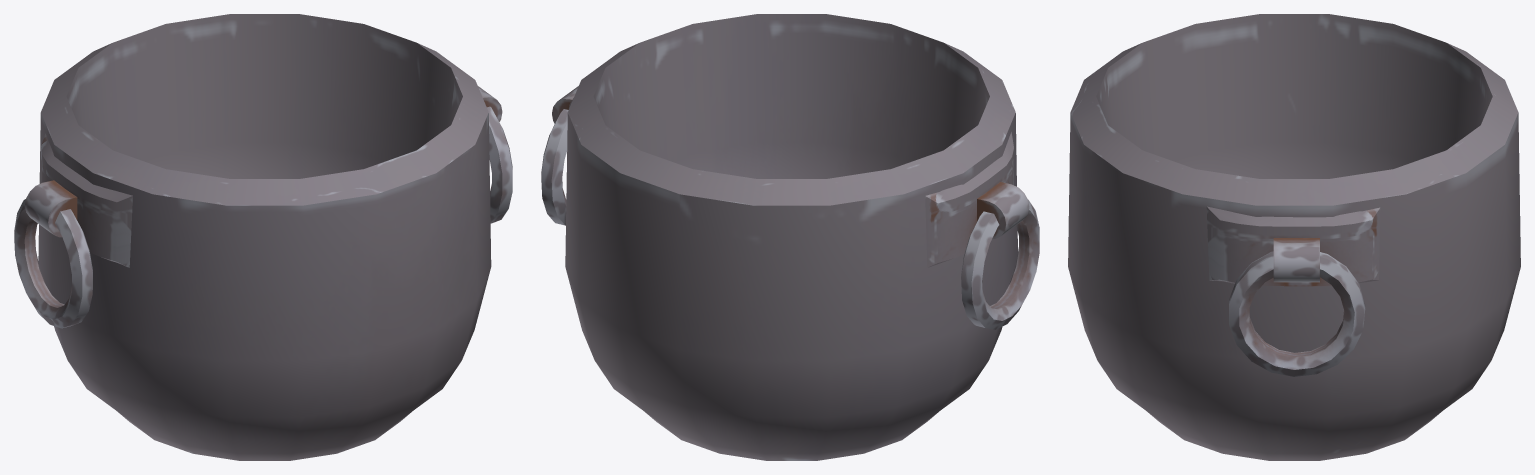
The model's file is Pot_2.fbx.
3 renders of one model, left to right at view 1: azimuth 30°, elevation 25°; view 2: azimuth 150°, elevation 25°; view 3: azimuth 270°, elevation 25°, orthographic.
Parts seen in each view (by area): view 1: Pot_2; view 2: Pot_2; view 3: Pot_2.
Boxes of the visible parts, x1=… form: Pot_2: x1=14, y1=14, x2=512, y2=460; Pot_2: x1=541, y1=14, x2=1039, y2=460; Pot_2: x1=1068, y1=14, x2=1520, y2=460.
Bounding box in the file's own units: 56.05 × 35.89 × 48.39.
